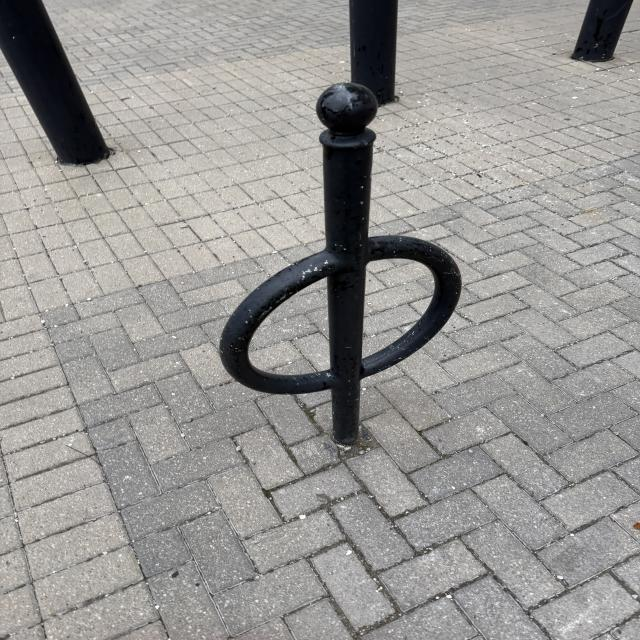Bicycle Rack: (219, 80, 463, 453)
